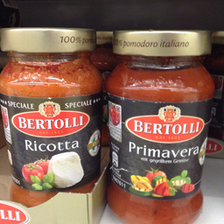tomato_sauce: (107, 26, 216, 224), (1, 27, 104, 207)
